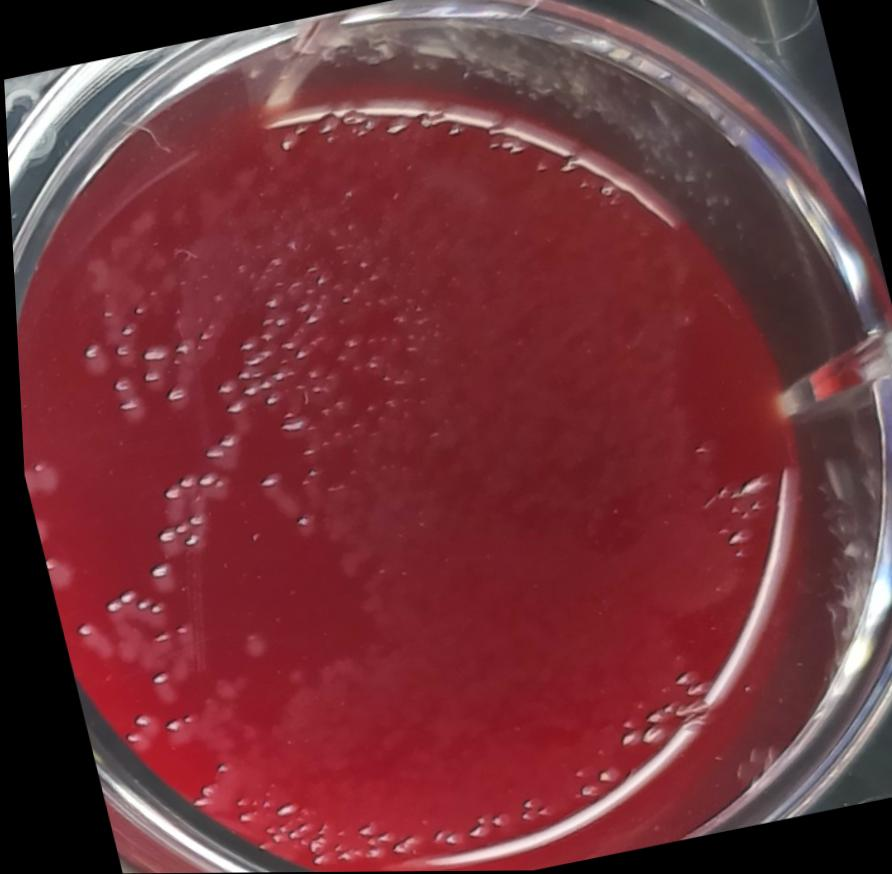pdpiscicida: (107, 582, 164, 634), (102, 370, 143, 425), (196, 428, 241, 476), (252, 469, 294, 520), (66, 615, 108, 666), (111, 708, 155, 753), (18, 454, 58, 502), (137, 556, 178, 599), (37, 551, 75, 592), (74, 338, 107, 378), (191, 470, 226, 502), (159, 380, 190, 413), (136, 342, 168, 373), (201, 674, 233, 705), (135, 366, 165, 394), (234, 630, 262, 660), (27, 511, 50, 546), (209, 379, 233, 403)
